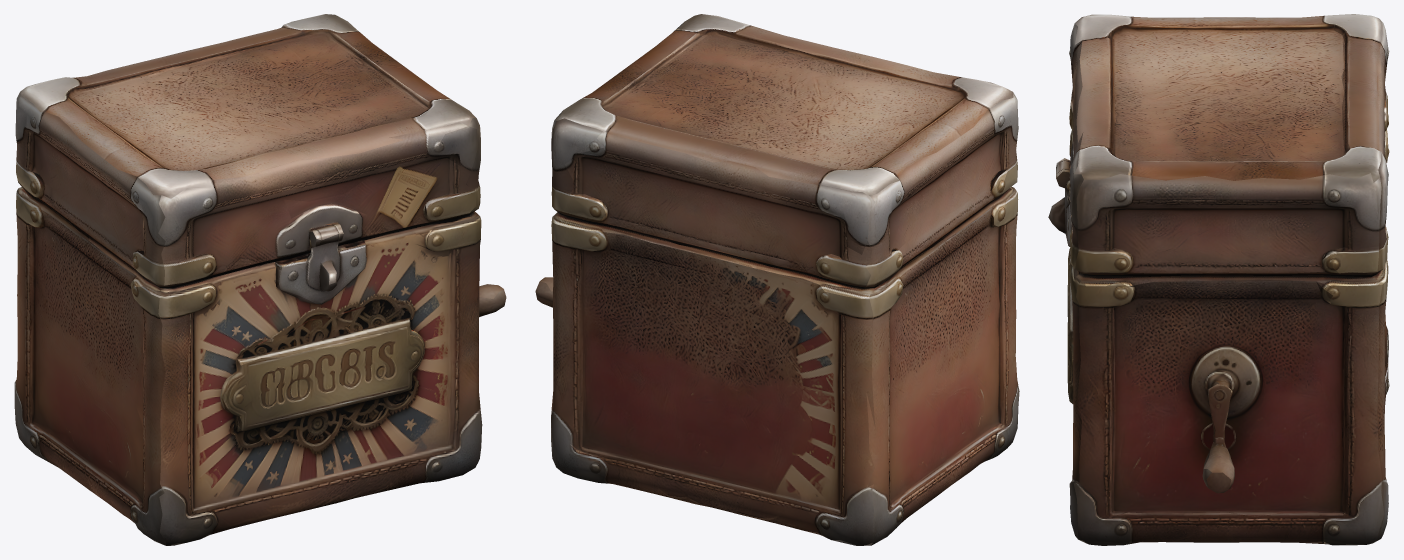
Rendered from CrownBox_Spawn.fbx.
3 views of the same model, side by side, from view 1: azimuth 30°, elevation 25°; view 2: azimuth 150°, elevation 25°; view 3: azimuth 270°, elevation 25° (orthographic). The views are drawn at different scales.
Visible parts, largest first — view 1: input; view 2: input; view 3: input.
Part boxes in pixels (x1=…): input: x1=14, y1=14, x2=506, y2=545; input: x1=535, y1=14, x2=1019, y2=545; input: x1=1048, y1=14, x2=1389, y2=545.
Size of the model in its own units: 99.84 by 83.39 by 68.08.
1 material, 1 textured.
